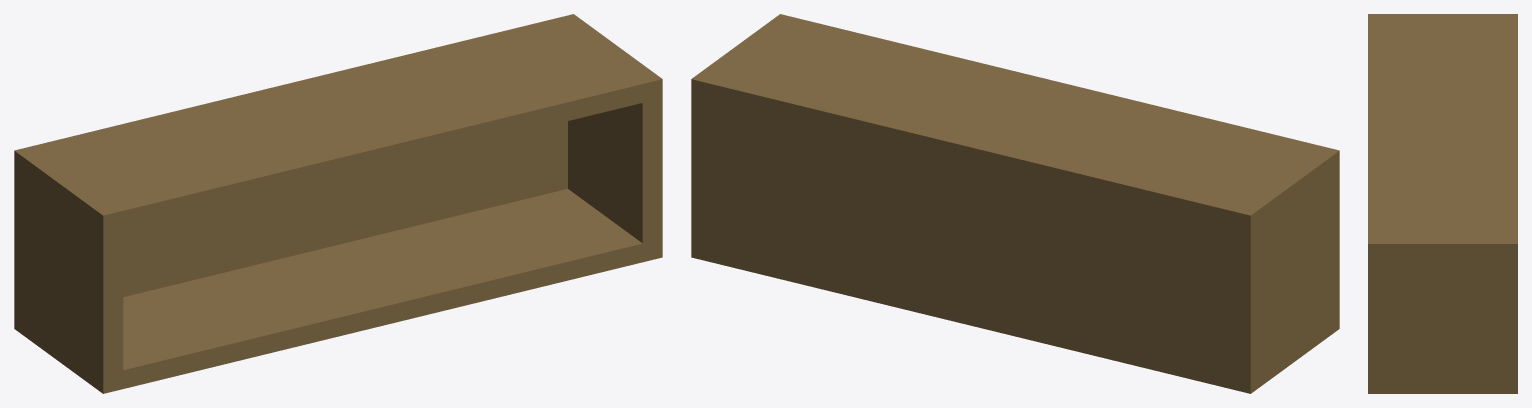
The model's file is Itr_Wardrobe4_Body1_01.FBX.
3 renders of one model, left to right at view 1: azimuth 30°, elevation 25°; view 2: azimuth 150°, elevation 25°; view 3: azimuth 270°, elevation 25°, orthographic. The views are drawn at different scales.
Visible parts, largest first — view 1: Itr_Wardrobe4_Body1_01; view 2: Itr_Wardrobe4_Body1_01; view 3: Itr_Wardrobe4_Body1_01.
Boxes of the visible parts, x1,y1,x2,y2 form: Itr_Wardrobe4_Body1_01: (14, 14, 662, 393); Itr_Wardrobe4_Body1_01: (691, 14, 1339, 393); Itr_Wardrobe4_Body1_01: (1368, 14, 1517, 393).
Size of the model in its own units: 59.06 by 17.98 by 16.27.
